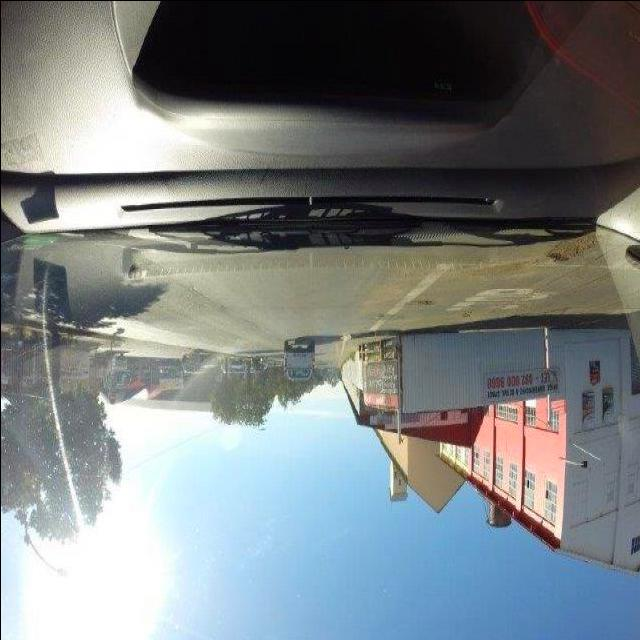lubang: (540, 243, 608, 270), (408, 294, 436, 311), (458, 302, 473, 320)
